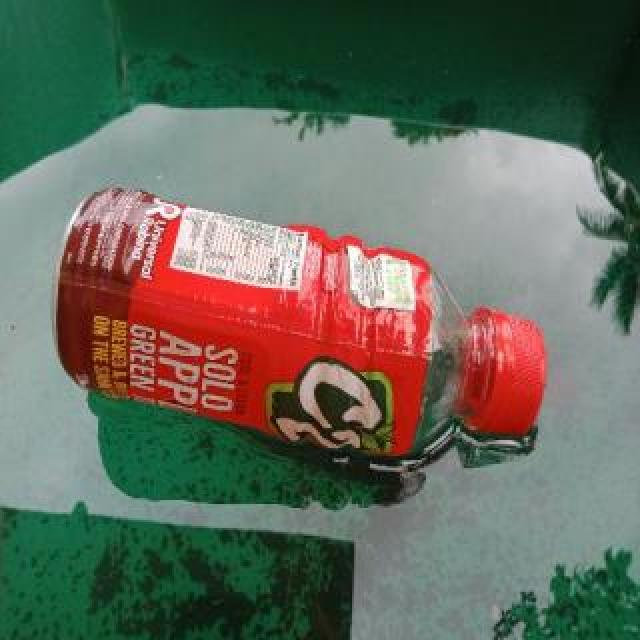Bottle: (45, 178, 556, 477)
